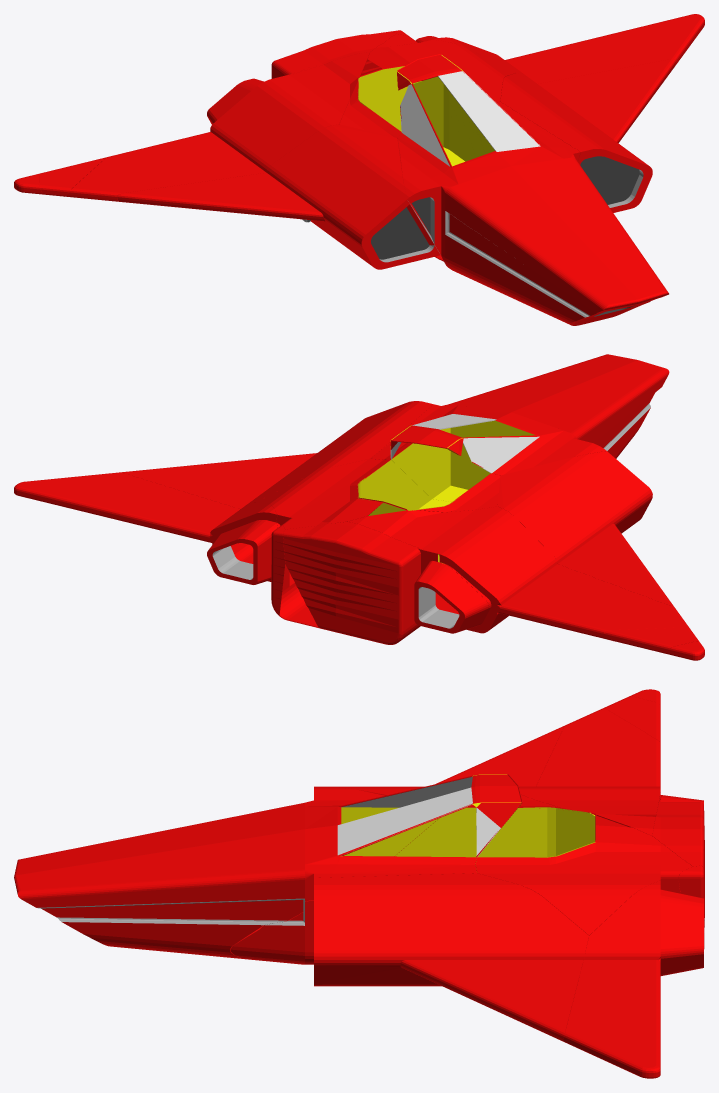
File: VectraShip_Destruct.fbx
3 renders of one model, top to bottom at view 1: azimuth 30°, elevation 25°; view 2: azimuth 150°, elevation 25°; view 3: azimuth 270°, elevation 25°, orthographic. The views are drawn at different scales.
Visible parts, largest first — view 1: VectraShip_Frag.07, VectraShip_Frag.00, VectraShip_Frag.06, VectraShip_Frag.05, VectraShip_Frag.08, VectraShip_Frag.02, VectraShip_Frag.09, VectraShip_Frag.04; view 2: VectraShip_Frag.07, VectraShip_Frag.06, VectraShip_Frag.09, VectraShip_Frag.00, VectraShip_Frag.02, VectraShip_Frag.08, VectraShip_Frag.05, VectraShip_Frag.04, VectraShip_Frag.01, VectraShip_Frag.03; view 3: VectraShip_Frag.07, VectraShip_Frag.05, VectraShip_Frag.08, VectraShip_Frag.02, VectraShip_Frag.06, VectraShip_Frag.00, VectraShip_Frag.09, VectraShip_Frag.04, VectraShip_Frag.01.
Boxes of the visible parts, x1,y1,x2,y2 form: VectraShip_Frag.07: (397,54,668,325); VectraShip_Frag.00: (117,124,440,269); VectraShip_Frag.06: (64,52,369,201); VectraShip_Frag.05: (500,59,675,212); VectraShip_Frag.08: (339,33,515,261); VectraShip_Frag.02: (415,14,704,101); VectraShip_Frag.09: (207,31,395,124); VectraShip_Frag.04: (39,157,105,196); VectraShip_Frag.07: (371,354,669,501); VectraShip_Frag.06: (347,506,689,641); VectraShip_Frag.09: (283,521,488,644); VectraShip_Frag.00: (497,451,675,608); VectraShip_Frag.02: (14,472,277,584); VectraShip_Frag.08: (257,458,500,628); VectraShip_Frag.05: (121,401,433,509); VectraShip_Frag.04: (604,627,698,653); VectraShip_Frag.01: (271,525,285,615); VectraShip_Frag.03: (666,641,704,660); VectraShip_Frag.07: (14,774,522,960); VectraShip_Frag.05: (230,873,588,1041); VectraShip_Frag.08: (395,795,692,959); VectraShip_Frag.02: (563,880,703,1078); VectraShip_Frag.06: (519,708,661,836); VectraShip_Frag.00: (325,726,564,852); VectraShip_Frag.09: (652,792,704,927); VectraShip_Frag.04: (604,696,660,742); VectraShip_Frag.01: (678,865,704,948).
Bounding box in the file's own units: 1042 × 191 × 797.
